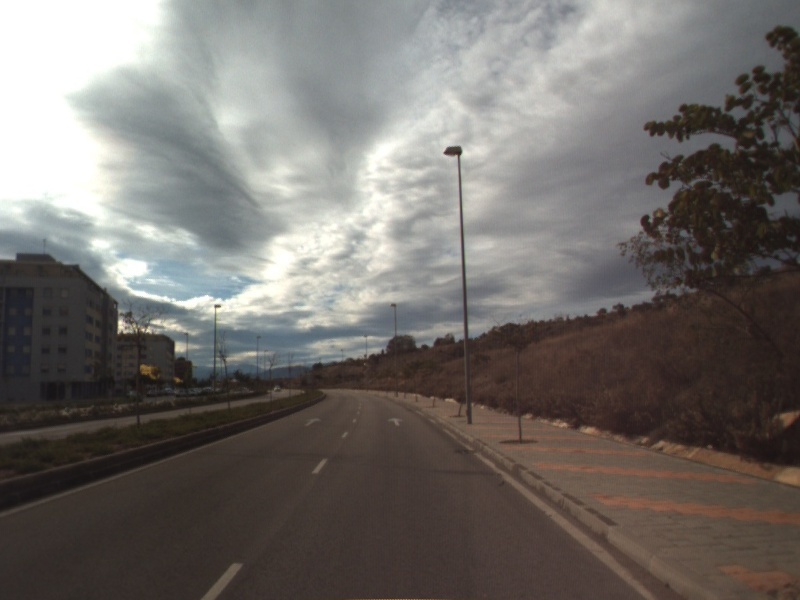STRAIGHT: (302, 416, 323, 428), (386, 416, 406, 428)
